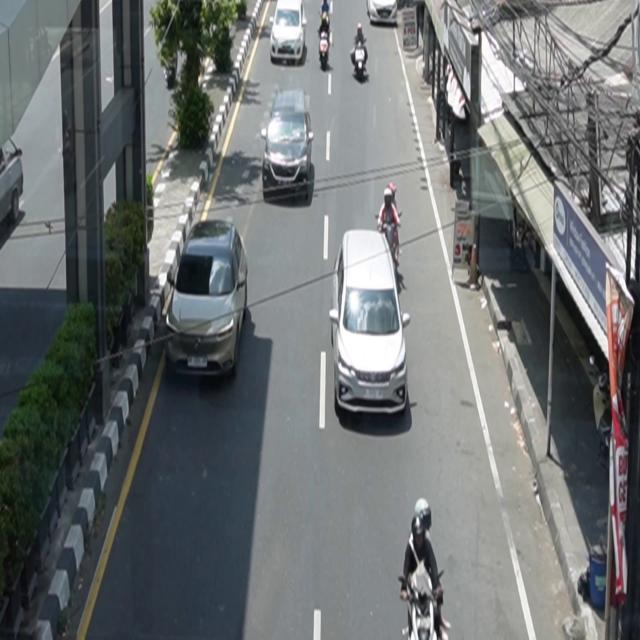car: (330, 229, 412, 418), (165, 219, 249, 380), (261, 89, 315, 191), (270, 1, 308, 66), (1, 137, 25, 228), (367, 1, 399, 26)
